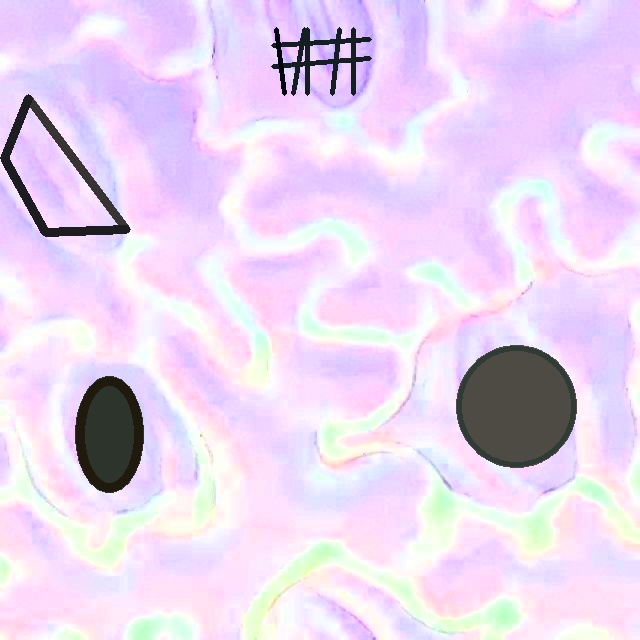close: (456, 344, 576, 467)
open: (0, 95, 129, 236), (76, 376, 142, 492), (271, 27, 371, 95)
